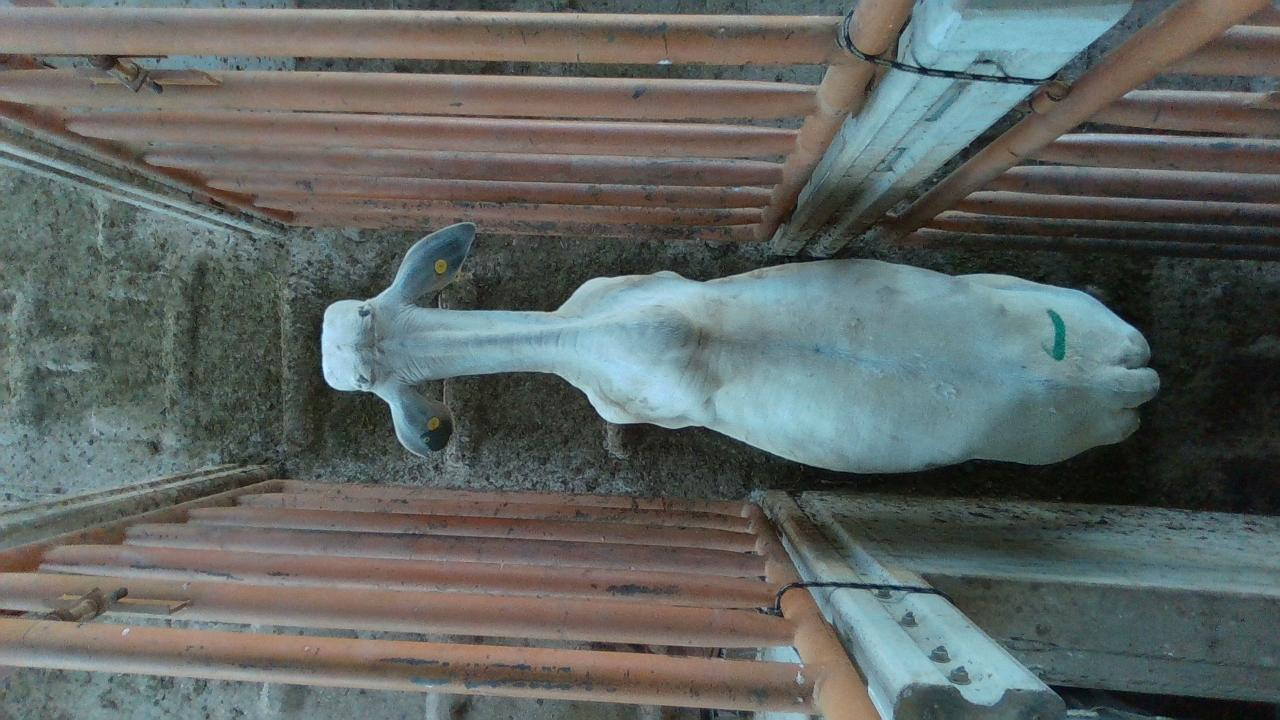cattle: (319, 220, 1161, 475)
